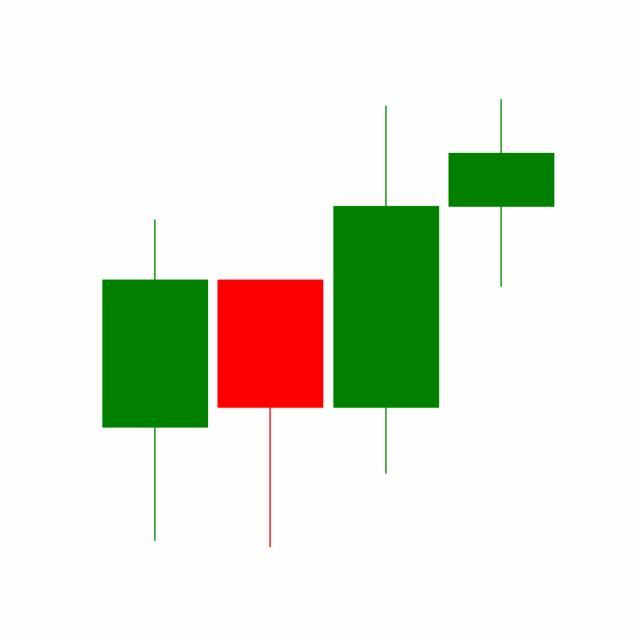Spinning Top: (444, 98, 560, 290)
